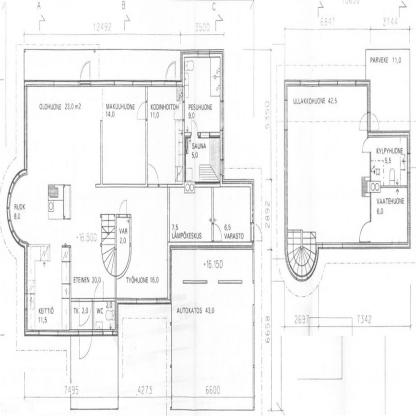door: (7, 85, 170, 329), (287, 87, 373, 280), (172, 249, 252, 410), (366, 50, 410, 131), (71, 337, 119, 407), (148, 87, 182, 184), (185, 56, 220, 132), (370, 188, 409, 244), (170, 188, 212, 240), (214, 185, 250, 242), (370, 136, 408, 186), (187, 139, 220, 182)
window: (78, 332, 92, 360), (78, 298, 92, 325), (360, 113, 380, 130), (359, 222, 372, 243), (250, 222, 262, 243), (211, 223, 223, 244), (137, 101, 149, 122), (147, 164, 158, 184), (80, 62, 90, 82), (166, 61, 176, 80), (94, 281, 104, 298), (174, 103, 184, 119), (362, 138, 372, 153), (119, 198, 127, 214), (191, 119, 198, 135)
zone: (91, 80, 164, 86), (252, 305, 254, 410), (252, 242, 254, 282)
